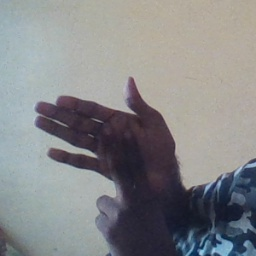N: (28, 72, 183, 232)
